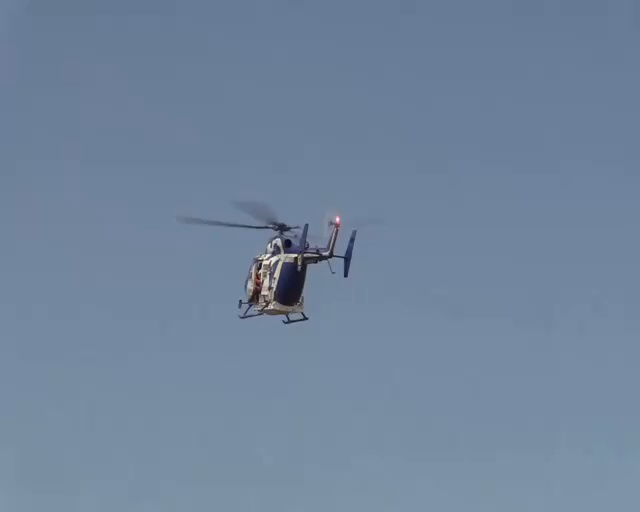HELICOPTER: (175, 197, 359, 326)
